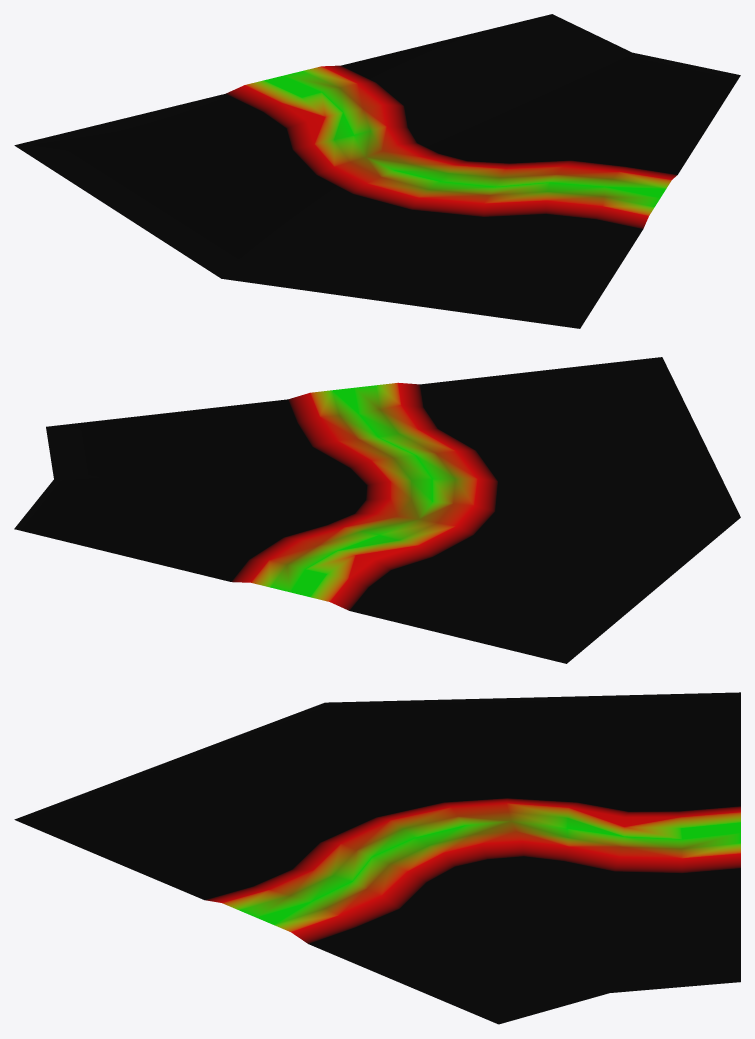
Rendered from Section_WayBend45Angle01_Steppe_Terrain.fbx.
The picture shows the model from 3 angles, top to bottom: view 1: azimuth 30°, elevation 25°; view 2: azimuth 150°, elevation 25°; view 3: azimuth 270°, elevation 25°; orthographic projection. The views are drawn at different scales.
Parts seen in each view (by area): view 1: Section_WayBend45Angle01_Steppe_Terrain; view 2: Section_WayBend45Angle01_Steppe_Terrain; view 3: Section_WayBend45Angle01_Steppe_Terrain.
Part boxes in pixels (x1,y1,x2,y2): Section_WayBend45Angle01_Steppe_Terrain: (14,14,740,328); Section_WayBend45Angle01_Steppe_Terrain: (14,357,740,663); Section_WayBend45Angle01_Steppe_Terrain: (14,692,740,1024).
Size of the model in its own units: 8025 by 51.45 by 7425.
